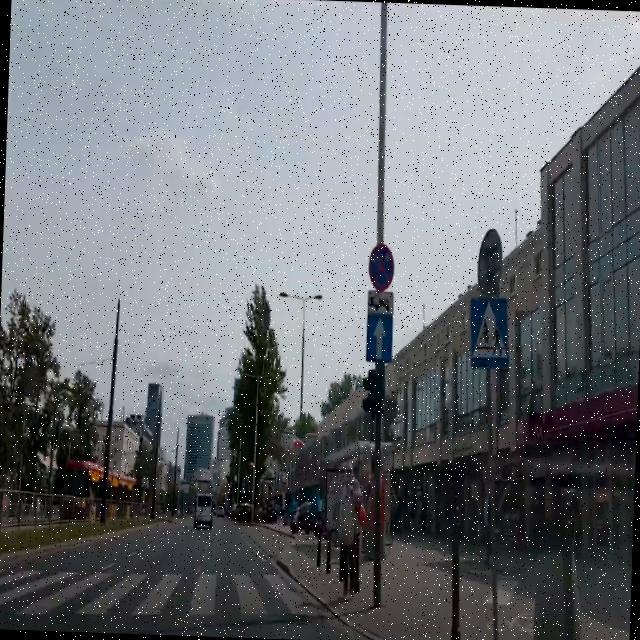Zakaz zatrzymywania sie: (367, 242, 395, 290)
